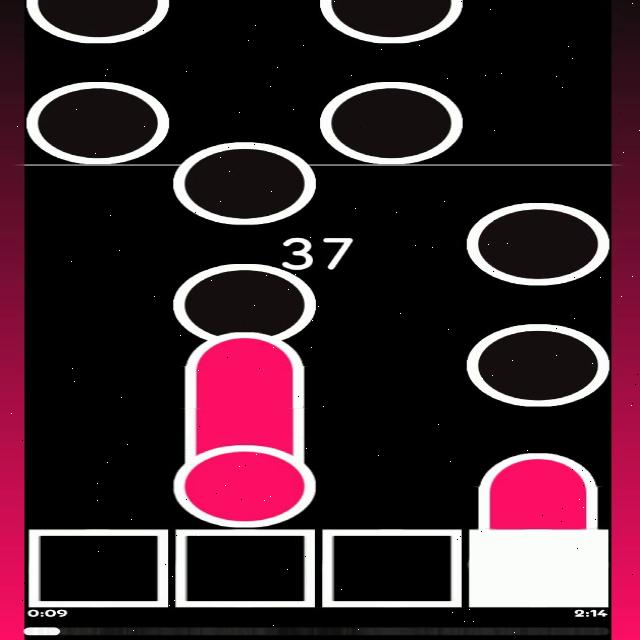end_hold: (479, 441, 596, 498), (182, 331, 307, 376)
note: (170, 138, 318, 225), (464, 320, 609, 407), (26, 78, 170, 164), (319, 80, 461, 166), (469, 202, 609, 284), (170, 262, 318, 336), (316, 0, 469, 43), (23, 0, 176, 41)
start_hold: (173, 437, 316, 527)
